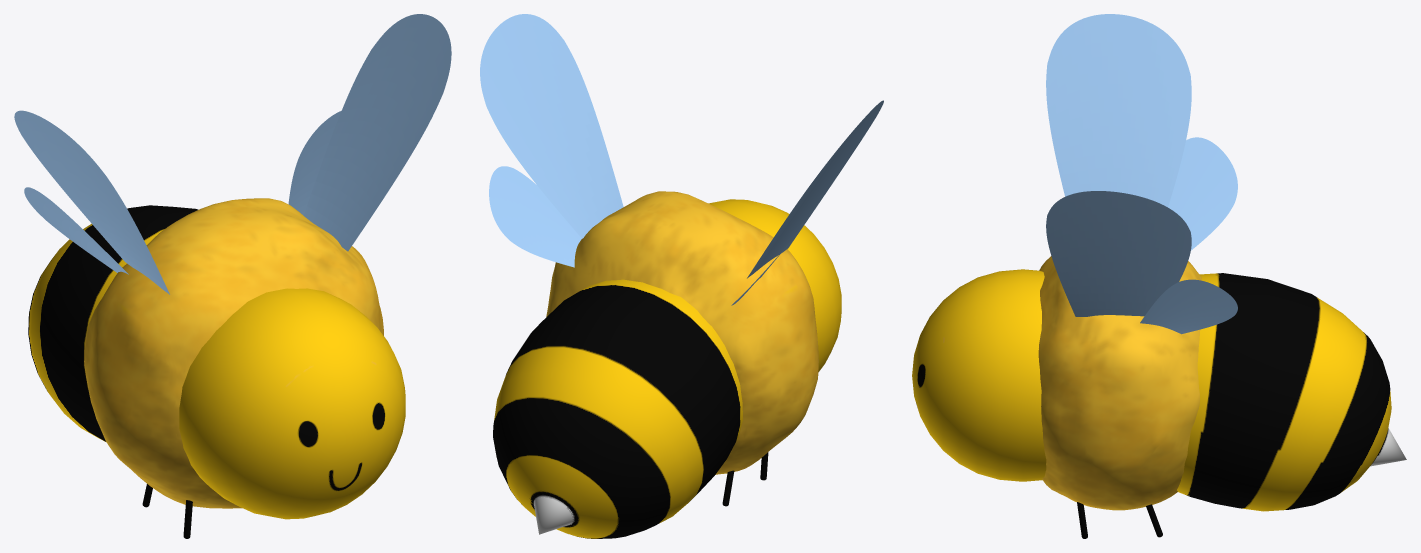
The model's file is Bee_Model.fbx.
3 renders of one model, left to right at view 1: azimuth 30°, elevation 25°; view 2: azimuth 150°, elevation 25°; view 3: azimuth 270°, elevation 25°, orthographic. The views are drawn at different scales.
Visible parts, largest first — view 1: Sphere.001, Plane.004, Plane, Plane.005, Plane.001; view 2: Sphere.001, Plane.004, Plane.005, Plane; view 3: Sphere.001, Plane, Plane.004, Plane.001, Plane.005.
Boxes of the visible parts, left/top/right/bottom form: Sphere.001: left=28, top=198, right=405, bottom=538; Plane.004: left=303, top=14, right=451, bottom=251; Plane: left=14, top=110, right=169, bottom=294; Plane.005: left=288, top=111, right=341, bottom=215; Plane.001: left=24, top=187, right=128, bottom=274; Sphere.001: left=493, top=191, right=841, bottom=538; Plane.004: left=480, top=14, right=623, bottom=238; Plane.005: left=489, top=166, right=581, bottom=267; Plane: left=747, top=100, right=883, bottom=278; Sphere.001: left=912, top=256, right=1406, bottom=538; Plane: left=1046, top=14, right=1191, bottom=207; Plane.004: left=1046, top=191, right=1191, bottom=316; Plane.001: left=1168, top=137, right=1237, bottom=250; Plane.005: left=1140, top=279, right=1237, bottom=334.
Bounding box in the file's own units: 367 × 390 × 431.
